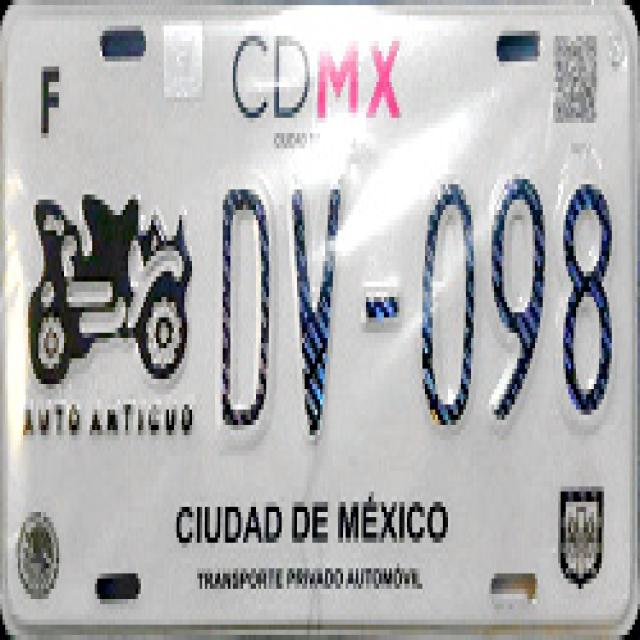placa: (198, 156, 633, 466)
